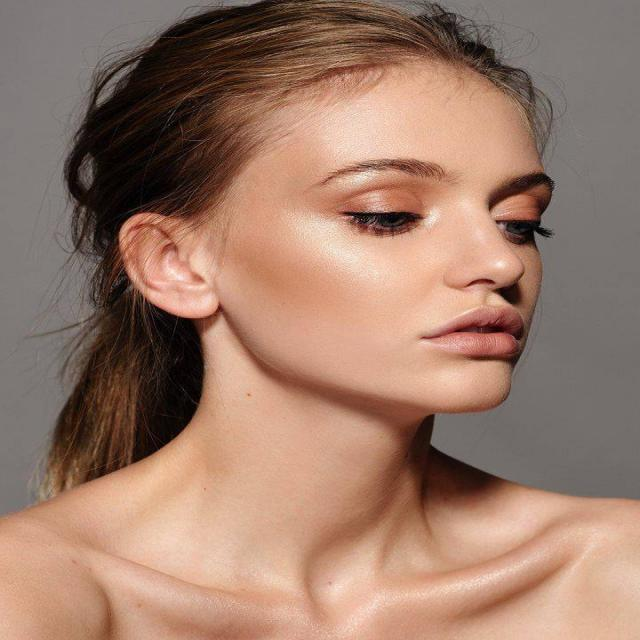earlobe: (172, 281, 220, 320)
eye: (342, 208, 430, 234), (492, 216, 546, 239)
nose: (450, 270, 536, 313)
wholeear: (118, 213, 220, 320)
